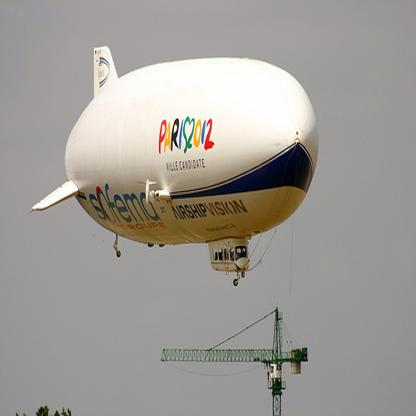Airship: (28, 43, 322, 289)
